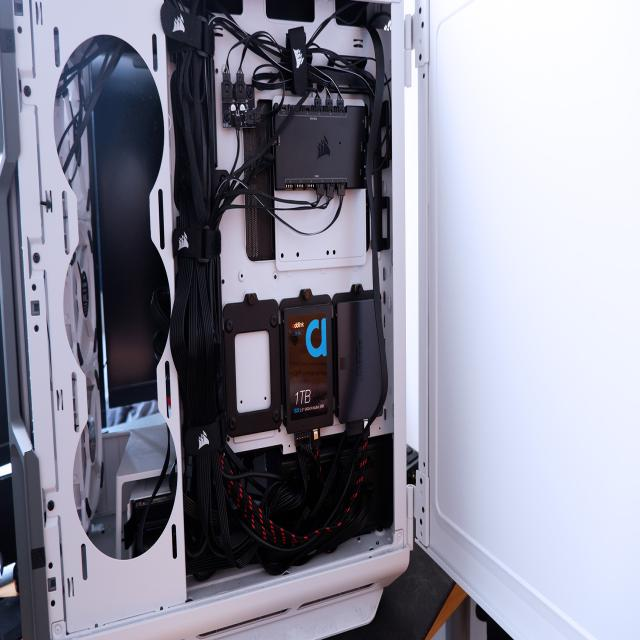electronics: (0, 0, 637, 639), (53, 37, 163, 531), (91, 48, 171, 407), (222, 430, 375, 574), (53, 36, 124, 259), (64, 136, 103, 530), (240, 434, 393, 534), (282, 284, 381, 432), (89, 412, 177, 559), (65, 215, 103, 530), (114, 415, 176, 559), (223, 293, 281, 436), (274, 104, 367, 193), (275, 184, 368, 271), (224, 293, 280, 436), (275, 188, 368, 271), (280, 290, 333, 433), (65, 143, 96, 359), (333, 284, 381, 423), (284, 308, 332, 432), (284, 306, 332, 430), (65, 215, 101, 376), (53, 68, 90, 203), (73, 376, 103, 530), (123, 479, 174, 556), (54, 69, 89, 165), (359, 434, 393, 532), (160, 2, 215, 62), (53, 71, 88, 165), (220, 59, 262, 130), (124, 479, 155, 556), (221, 72, 261, 129), (243, 447, 302, 484), (277, 197, 339, 232), (245, 194, 276, 261), (143, 481, 173, 548), (312, 434, 351, 479), (243, 100, 272, 158), (172, 225, 220, 260), (0, 459, 16, 564), (285, 25, 309, 95), (313, 435, 351, 476), (372, 169, 391, 249), (150, 286, 170, 360), (108, 401, 157, 427), (185, 553, 229, 581), (373, 101, 391, 169), (264, 0, 315, 23), (239, 446, 282, 473), (187, 553, 229, 575), (0, 597, 21, 638), (267, 450, 299, 476), (0, 553, 19, 596), (379, 101, 391, 168), (376, 196, 391, 249), (247, 165, 273, 195), (335, 0, 366, 25), (0, 556, 19, 596), (63, 194, 74, 252), (206, 0, 244, 15), (407, 444, 419, 484), (221, 73, 236, 104), (276, 190, 316, 200), (0, 425, 9, 466), (188, 558, 214, 572), (616, 616, 632, 636), (213, 169, 228, 187), (91, 57, 101, 83), (250, 476, 273, 487), (344, 97, 364, 108), (43, 190, 53, 210), (42, 191, 52, 210), (255, 478, 272, 488), (171, 484, 181, 501), (31, 303, 44, 316), (63, 193, 69, 220), (56, 389, 64, 409), (347, 475, 357, 491), (8, 623, 20, 636), (65, 227, 71, 251), (72, 375, 77, 403), (0, 617, 7, 636), (65, 229, 71, 251), (79, 207, 90, 219), (164, 508, 174, 521), (324, 501, 332, 517), (180, 78, 192, 88), (613, 82, 625, 92), (302, 437, 315, 446), (340, 281, 351, 290), (600, 89, 611, 98), (0, 441, 8, 453), (0, 553, 4, 577), (91, 311, 99, 323), (0, 553, 4, 575), (334, 482, 343, 491), (0, 430, 8, 440), (72, 52, 80, 62), (44, 200, 52, 209), (341, 281, 349, 290), (300, 292, 307, 302), (348, 435, 356, 443), (165, 233, 170, 245), (283, 300, 295, 305), (335, 145, 342, 153), (305, 97, 313, 104), (249, 164, 256, 172), (64, 196, 68, 209), (379, 489, 385, 497), (63, 210, 68, 219), (595, 87, 599, 98), (94, 412, 99, 420), (192, 95, 201, 99), (208, 84, 213, 91), (7, 517, 12, 524), (600, 73, 607, 78), (0, 578, 4, 585), (2, 607, 6, 614), (626, 631, 633, 635), (223, 117, 227, 124), (175, 530, 177, 544), (74, 52, 79, 57), (627, 439, 632, 444), (63, 212, 68, 217), (157, 530, 162, 535), (309, 296, 313, 302), (273, 146, 277, 152), (275, 449, 279, 455), (241, 73, 243, 84), (292, 116, 295, 123), (137, 403, 144, 406), (344, 148, 349, 152), (89, 281, 93, 286), (148, 513, 152, 518), (3, 543, 6, 548), (627, 171, 632, 174), (242, 95, 245, 100), (98, 517, 100, 523), (284, 300, 288, 303), (117, 520, 120, 524), (80, 207, 83, 211), (16, 612, 19, 616), (396, 633, 402, 635), (96, 305, 99, 309), (314, 494, 317, 498), (315, 484, 317, 489), (171, 532, 173, 537), (48, 197, 51, 200), (0, 580, 3, 583), (165, 2, 168, 5), (369, 140, 372, 143), (76, 409, 77, 417), (309, 487, 311, 491), (160, 552, 162, 556), (160, 542, 162, 546), (158, 225, 159, 232), (172, 539, 173, 546), (102, 530, 104, 533), (121, 473, 124, 475), (77, 54, 79, 57), (233, 108, 235, 111), (328, 501, 331, 503), (306, 292, 308, 294), (242, 55, 244, 57), (98, 523, 99, 526), (166, 133, 169, 134), (216, 69, 217, 72), (608, 616, 611, 617), (320, 199, 321, 201), (164, 279, 165, 281), (49, 198, 51, 199), (367, 268, 368, 270), (7, 575, 8, 577), (9, 550, 10, 552), (3, 396, 4, 398), (225, 3, 226, 5), (242, 87, 243, 89), (324, 158, 325, 159), (7, 456, 8, 457), (600, 87, 601, 88), (627, 83, 628, 84), (103, 527, 103, 530), (285, 128, 285, 130), (383, 528, 383, 530), (3, 584, 3, 585), (176, 539, 176, 543), (636, 384, 636, 386), (609, 74, 610, 74), (58, 64, 58, 66), (165, 538, 165, 538), (156, 536, 156, 538), (172, 527, 172, 527)
fans: (169, 231, 387, 578), (171, 3, 388, 232), (190, 0, 292, 117), (366, 143, 381, 229), (320, 196, 343, 232), (169, 469, 178, 494), (355, 4, 365, 19), (169, 2, 182, 9), (109, 50, 117, 59), (224, 56, 228, 73), (304, 229, 320, 233), (105, 63, 108, 72), (387, 129, 388, 135), (329, 97, 331, 99)
